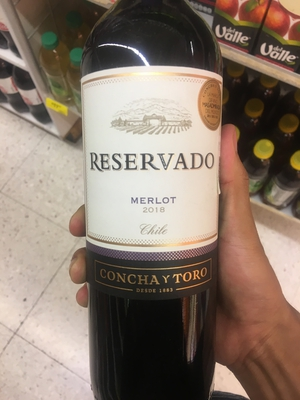reservado merlot: (78, 14, 243, 400)
